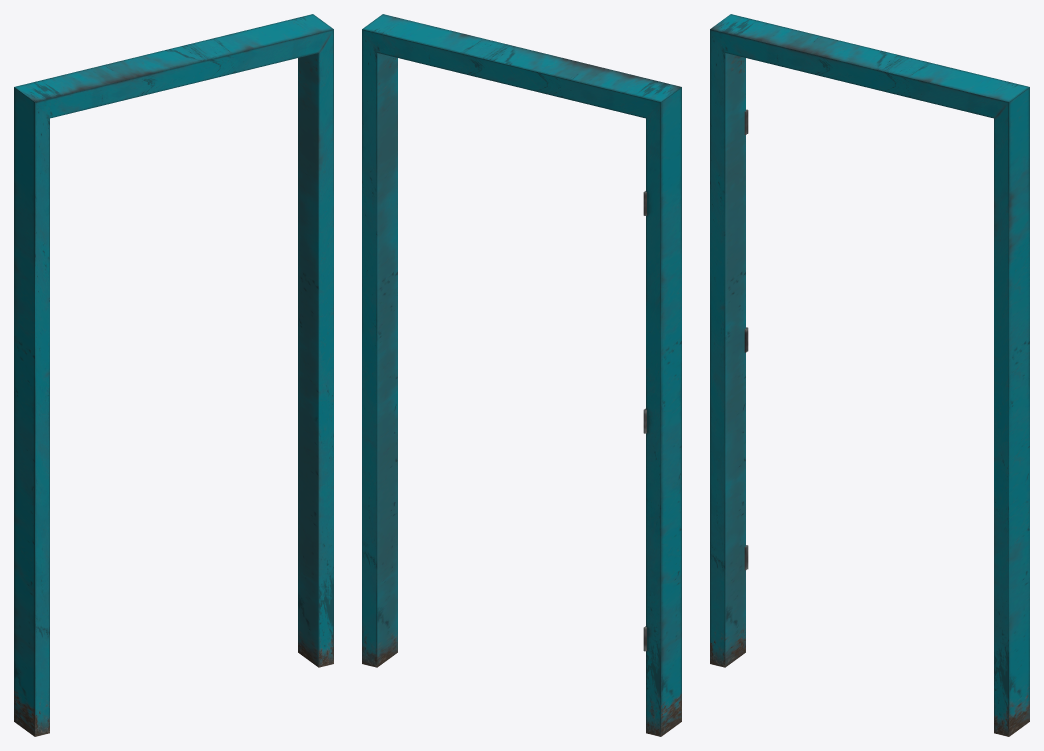
Rendered from SM_Frame_Metal_ABlue.glb.
3 views of the same model, side by side, from view 1: azimuth 30°, elevation 25°; view 2: azimuth 150°, elevation 25°; view 3: azimuth 330°, elevation 25° (orthographic).
Visible parts, largest first — view 1: SM_Frame_Metal_ABlue; view 2: SM_Frame_Metal_ABlue; view 3: SM_Frame_Metal_ABlue.
Part boxes in pixels (x1,y1,x2,y2): SM_Frame_Metal_ABlue: (14,14,333,736); SM_Frame_Metal_ABlue: (362,14,681,736); SM_Frame_Metal_ABlue: (710,14,1029,736).
Size of the model in its own units: 1.25 by 2.53 by 0.1616.
Materials: 1 (1 with a texture image).
